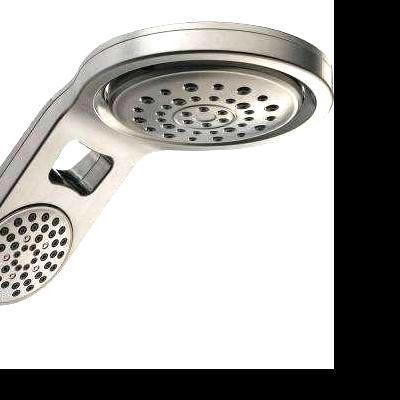Ducha: (0, 22, 333, 330)
